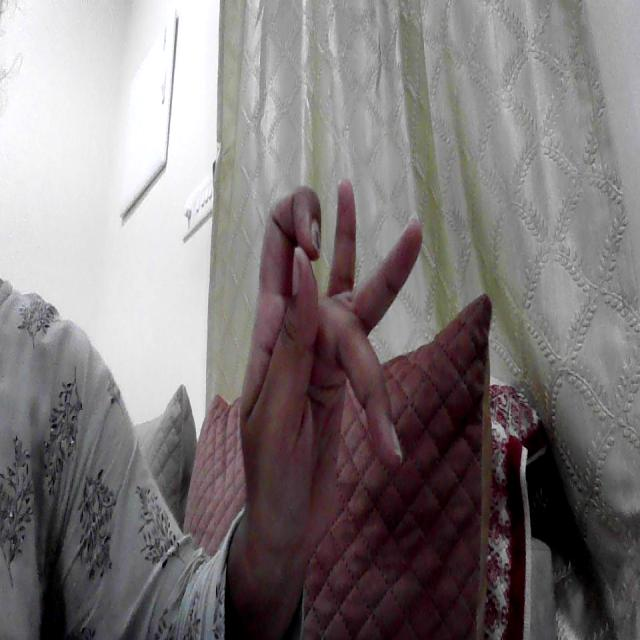Katakamukha: (236, 169, 441, 573)
